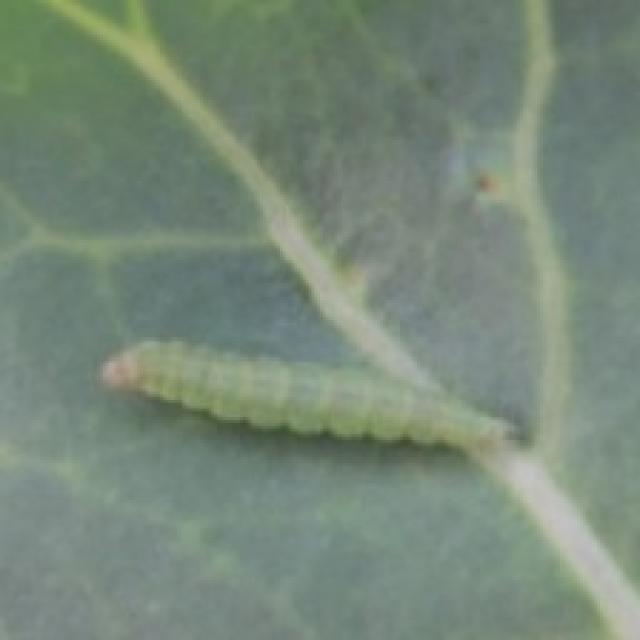Cabbage-worm: (86, 314, 532, 494)
